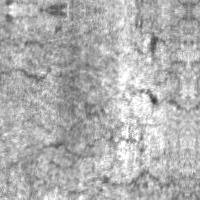crazing: (23, 78, 182, 162), (7, 133, 187, 191), (0, 36, 120, 83), (0, 10, 80, 44)
